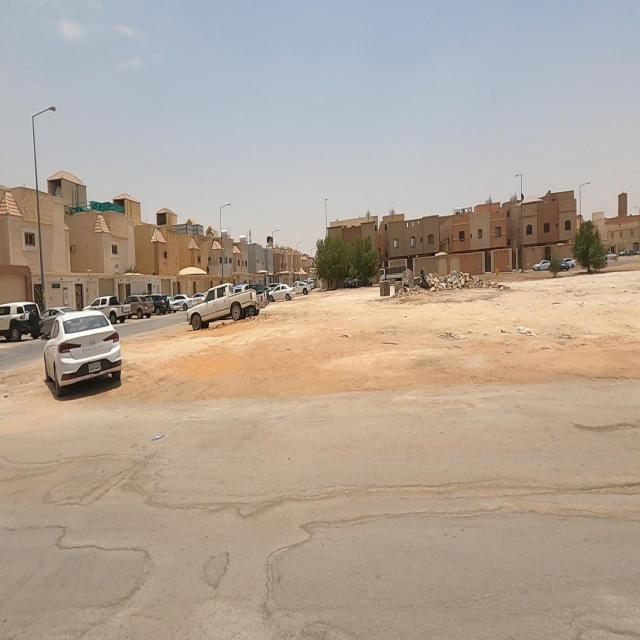debris: (406, 248, 451, 308), (497, 308, 546, 354)
